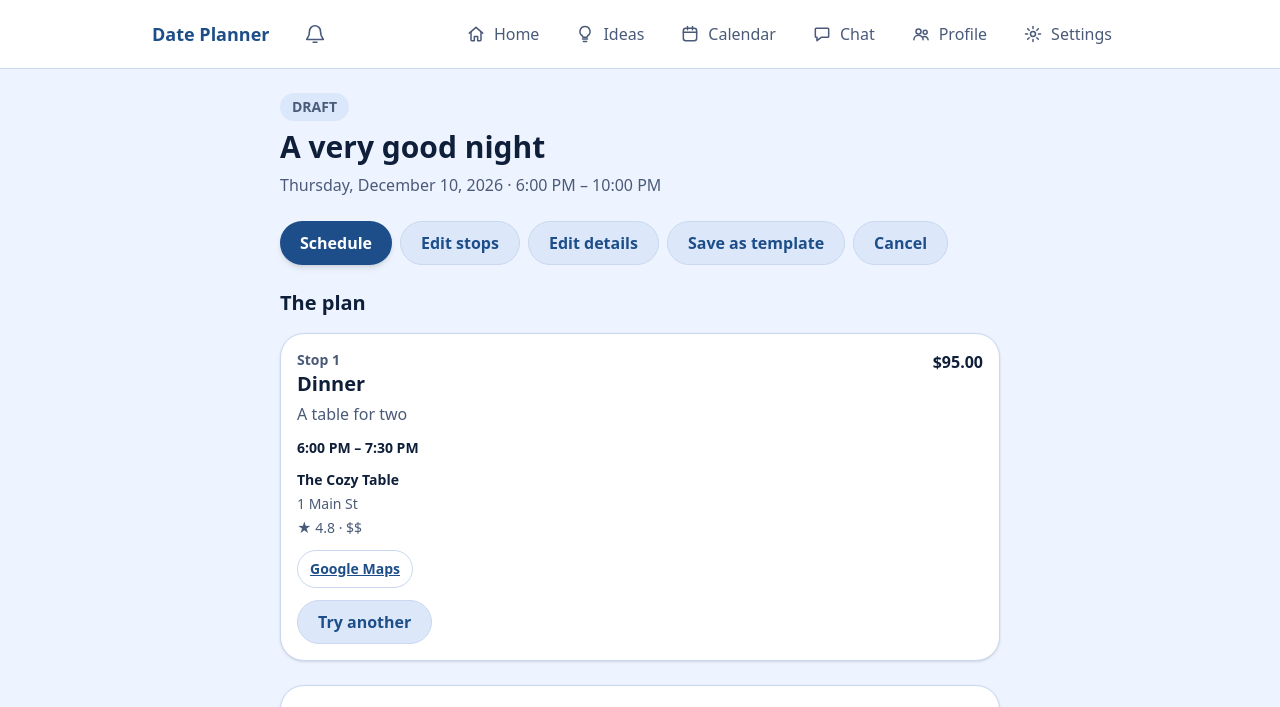
Scenario: ItineraryPage › saves the itinerary as a template with a chosen name, then offers a link
Click the button "Save as template". click: (756,243)
box: [667,221,845,265]
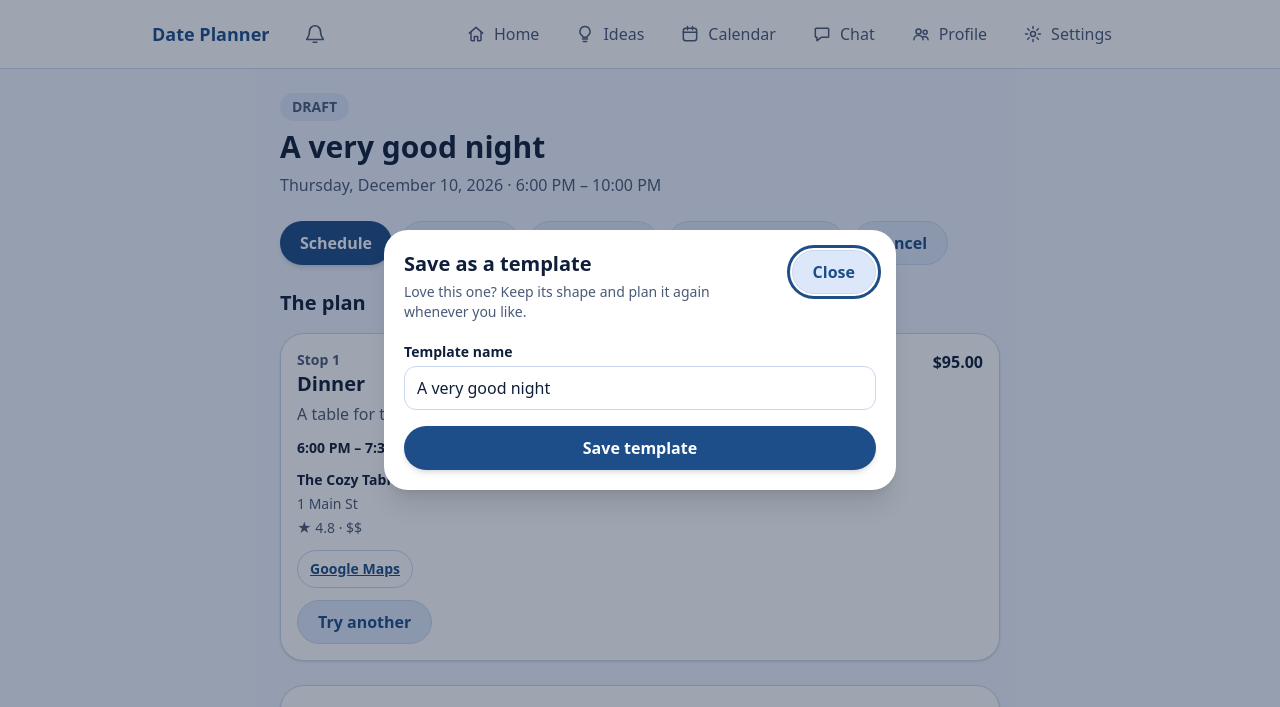
expect the field labelled "Template name" holds "A very good night": met
Replace the text in the field labelled "Template name" with "Our classic night". click: (640,388)
box: [404,366,876,410]
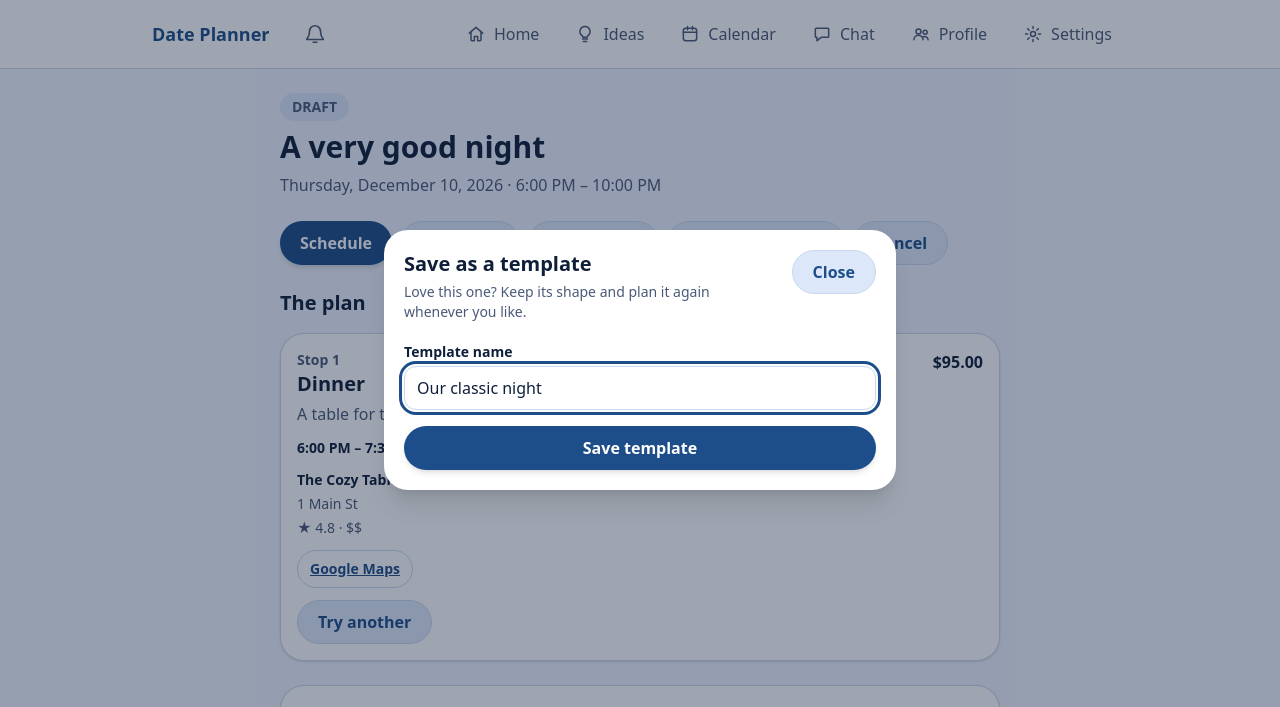
Click the button "Save template". click: (640,448)
box: [404,426,876,470]
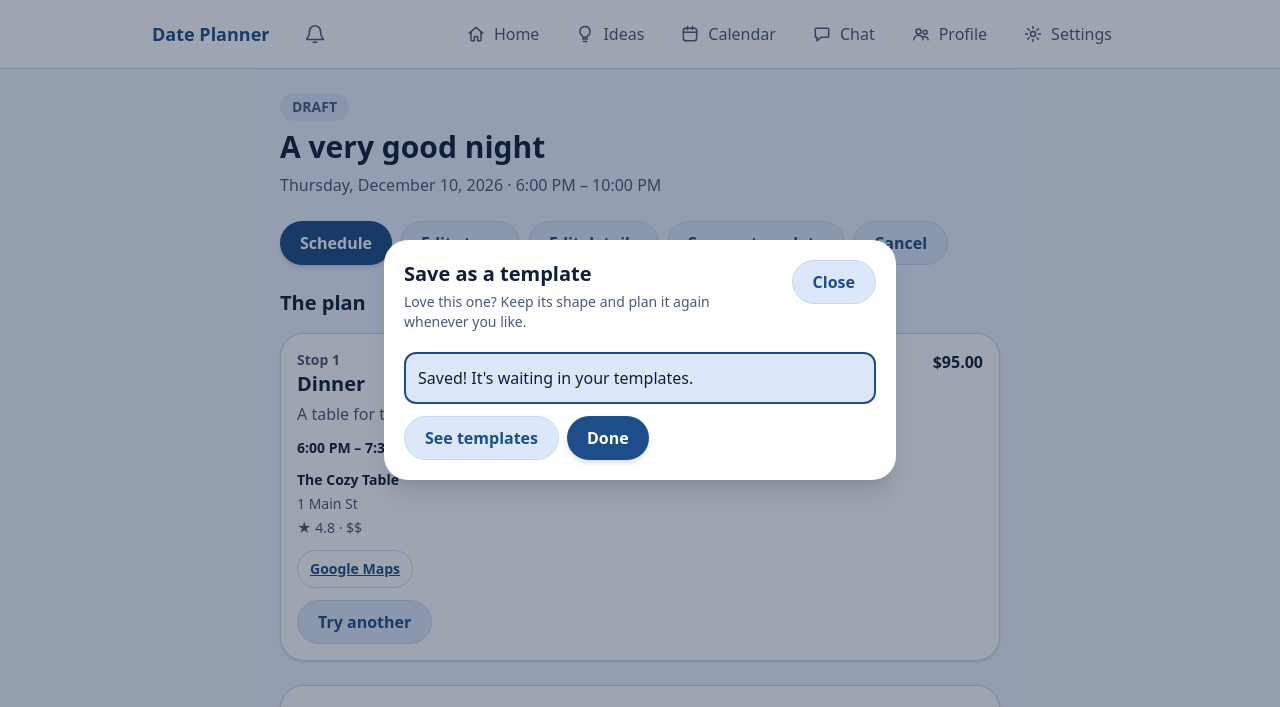
expect the message shows "Saved": met, box [418,367,693,389]
